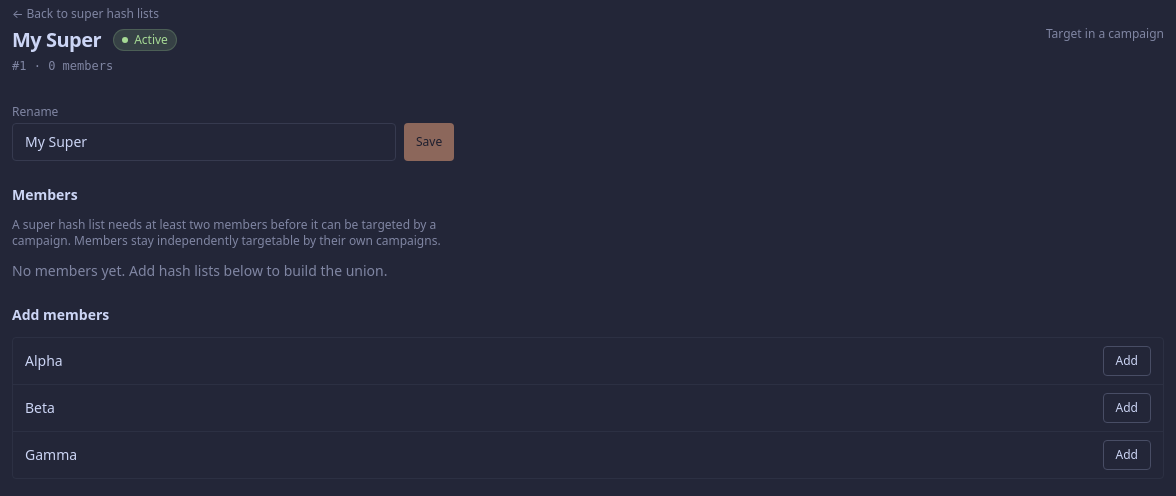
Test: SuperHashListDetailPage › adds two members and reflects the updated server membership
Check: the heading "My Super" is shown, box [12,26,101,54]
# Alpha, Beta, Gamma all eligible to add initially.
Click the button with aria-label "Add Alpha" at (1127, 361), box [1103,346,1151,376]
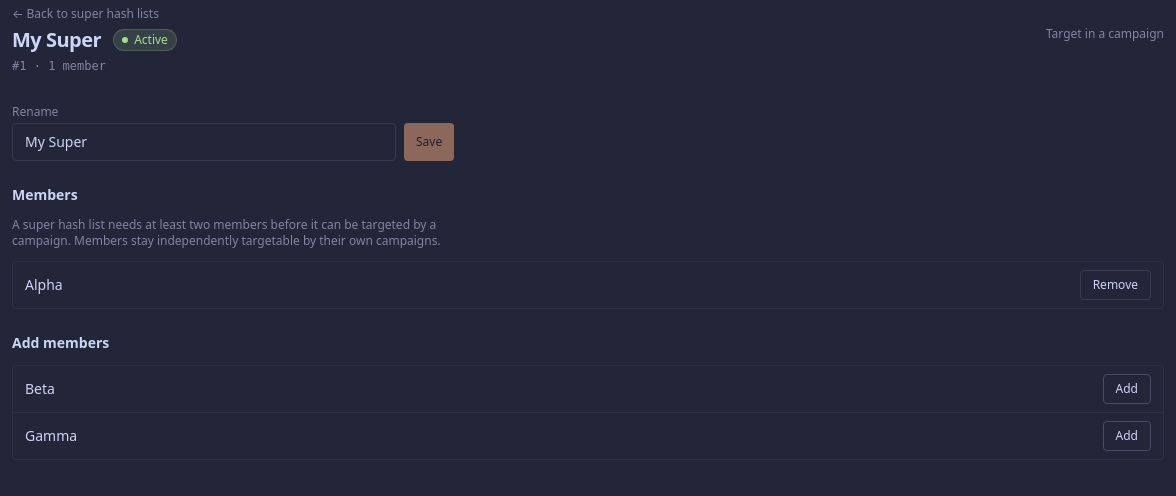
Check: the button with aria-label "Remove Alpha" is shown, box [1080,270,1151,300]
Click the button with aria-label "Add Beta" at (1127, 389), box [1103,374,1151,404]
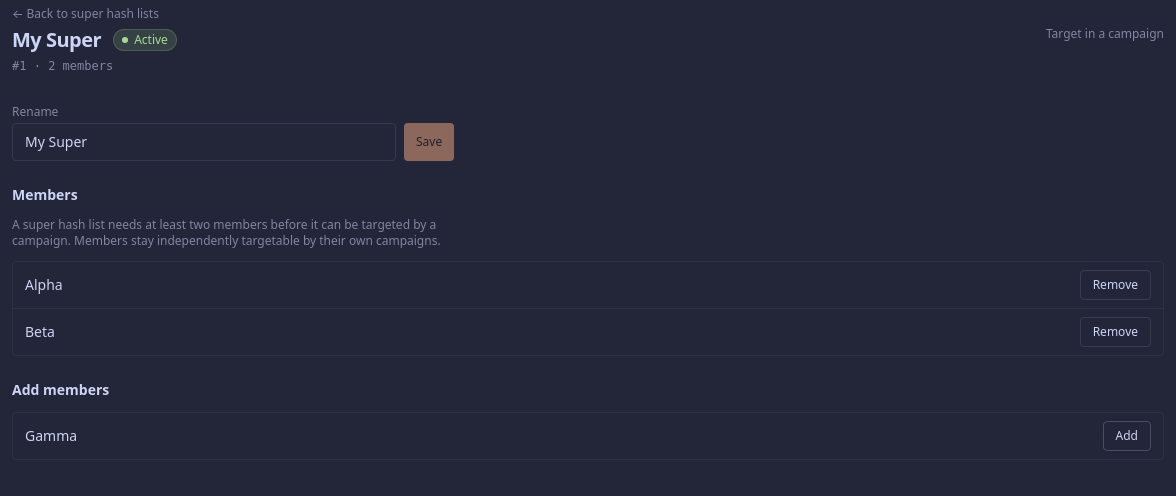
Check: the button with aria-label "Remove Alpha" is shown, box [1080,270,1151,300]
Check: the button with aria-label "Remove Beta" is shown, box [1080,317,1151,347]
